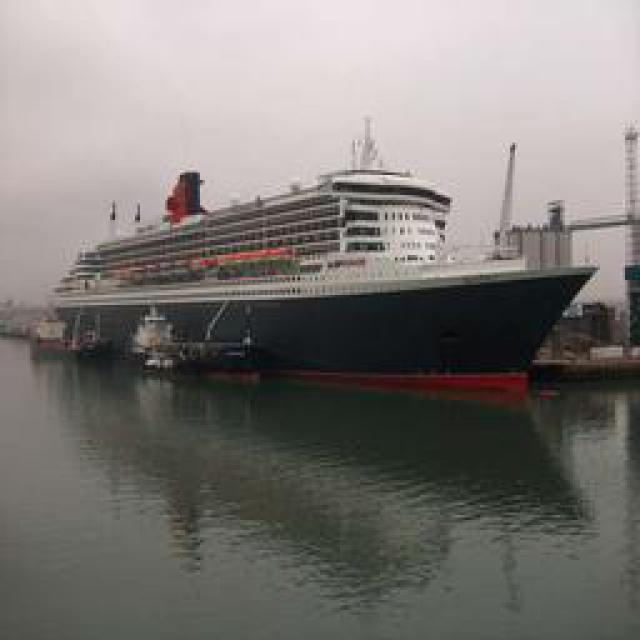Ship: (29, 142, 602, 372)
